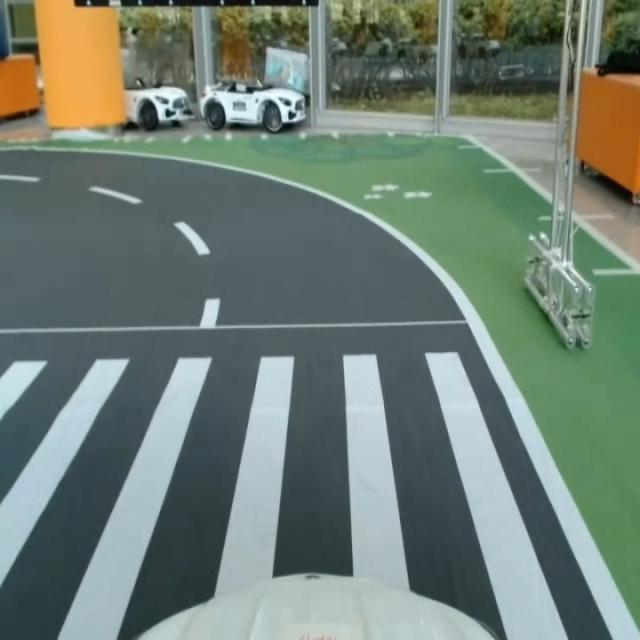traffic-light: (72, 0, 324, 13)
